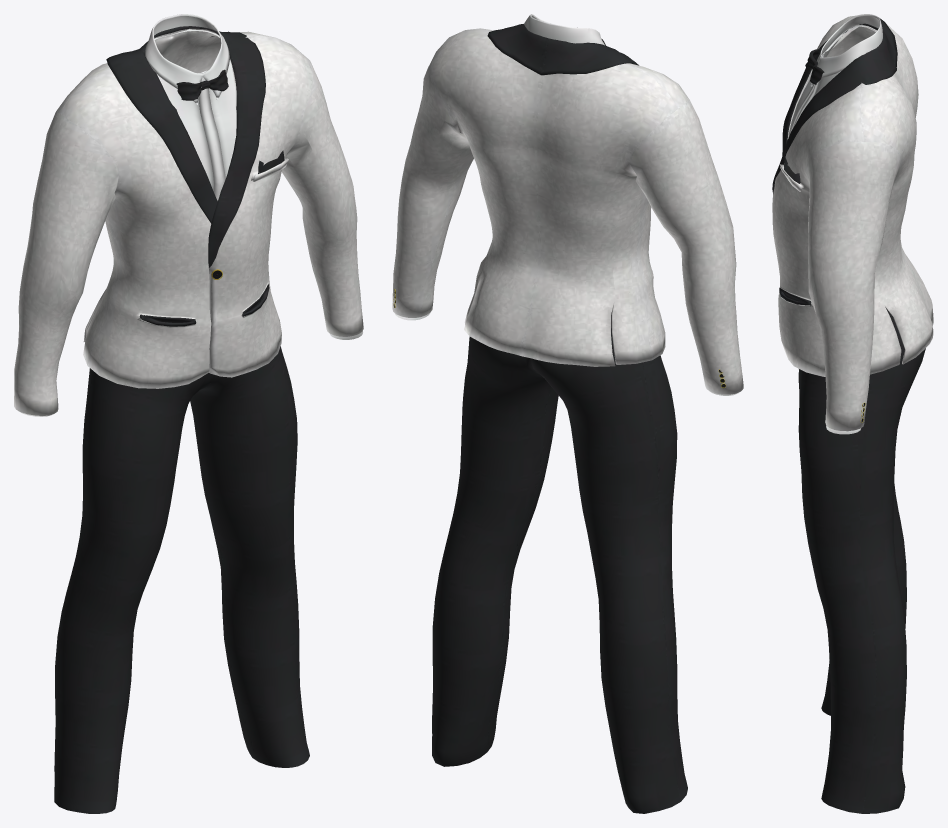
File: toigo-suit-with-dinner-jacket.glb
3 views of the same model, side by side, from view 1: azimuth 30°, elevation 25°; view 2: azimuth 150°, elevation 25°; view 3: azimuth 270°, elevation 25° (orthographic). The views are drawn at different scales.
Parts seen in each view (by area): view 1: Human.toigo_suit_with_dinner_jacket; view 2: Human.toigo_suit_with_dinner_jacket; view 3: Human.toigo_suit_with_dinner_jacket.
Boxes of the visible parts, <box> form: Human.toigo_suit_with_dinner_jacket: <box>14,14,363,813</box>; Human.toigo_suit_with_dinner_jacket: <box>392,14,743,813</box>; Human.toigo_suit_with_dinner_jacket: <box>772,14,933,813</box>.
Size of the model in its own units: 0.7372 by 1.55 by 0.3072.
1 material, 1 textured.
